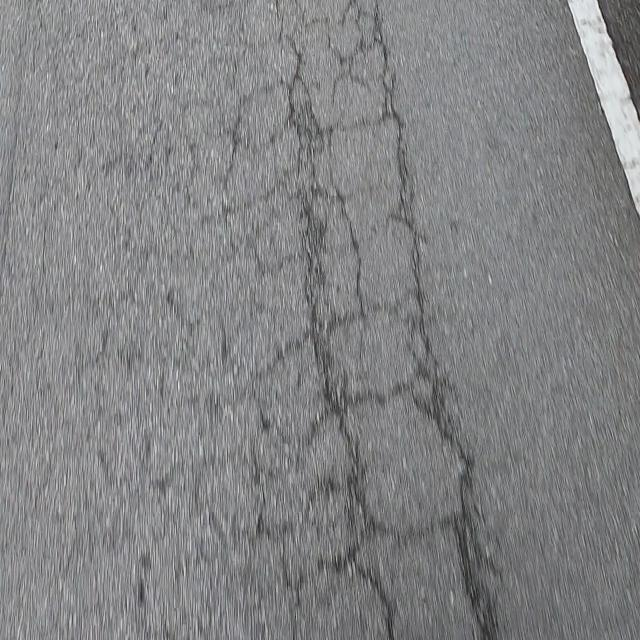Retak-Buaya: (206, 0, 488, 636)
